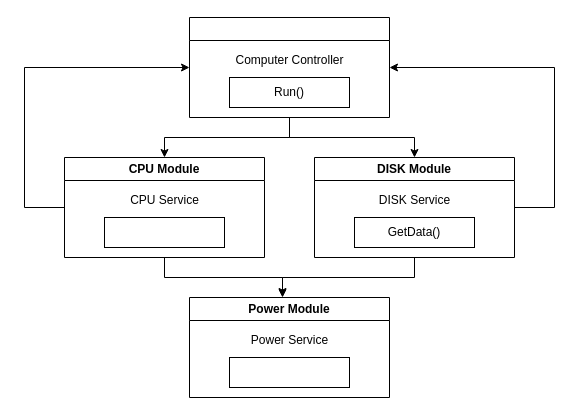
This 580x415 diagram has some shape labels left out. The shapes that lost their labels are listed below. From the top down, each one's box as (x1, y1, x2, y2) in pixels, then its label:
(188, 16, 390, 118): Computer Module
(104, 216, 224, 248): Compute()
(228, 356, 350, 388): SupplyPower()
